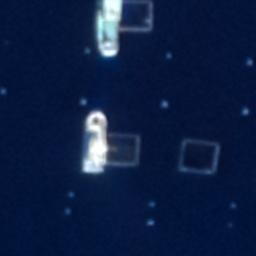square_cover: (177, 135, 226, 178), (100, 128, 145, 169), (115, 1, 159, 34)
